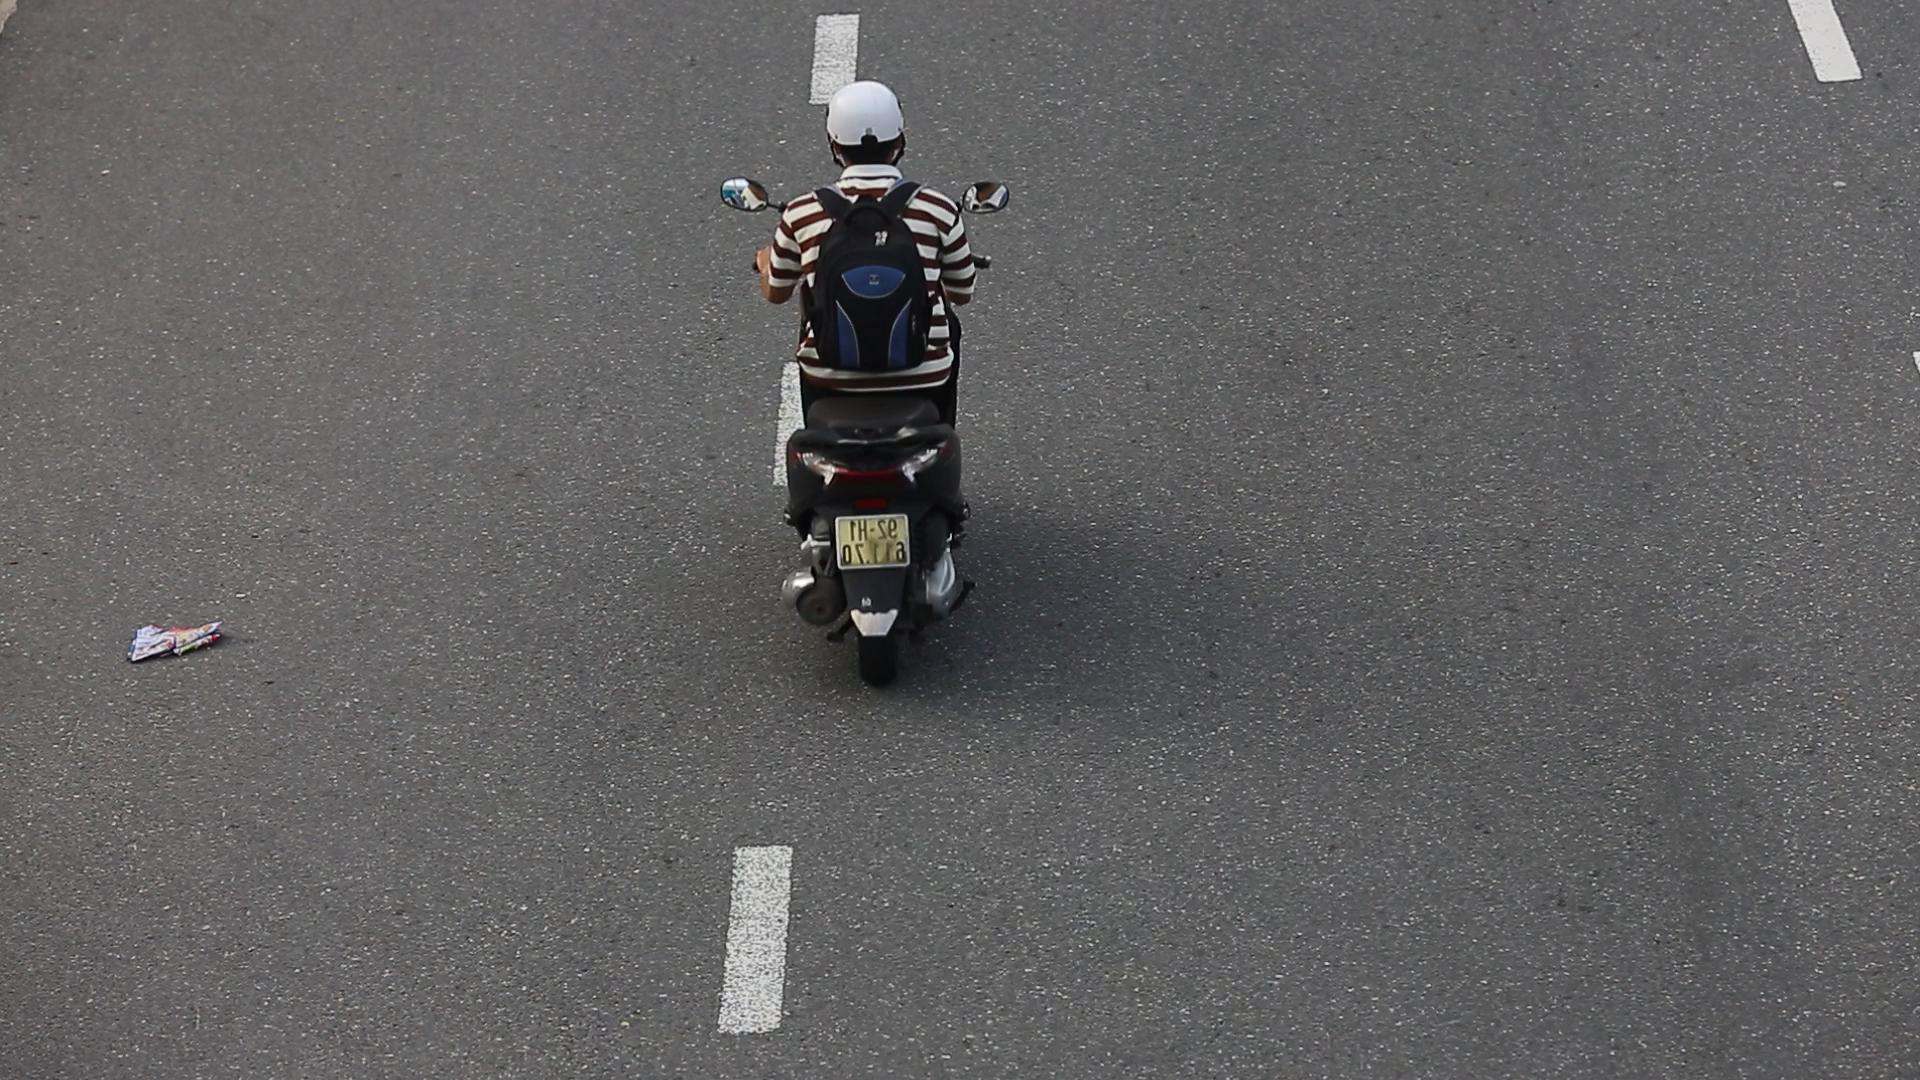motobike: (702, 74, 1031, 717)
